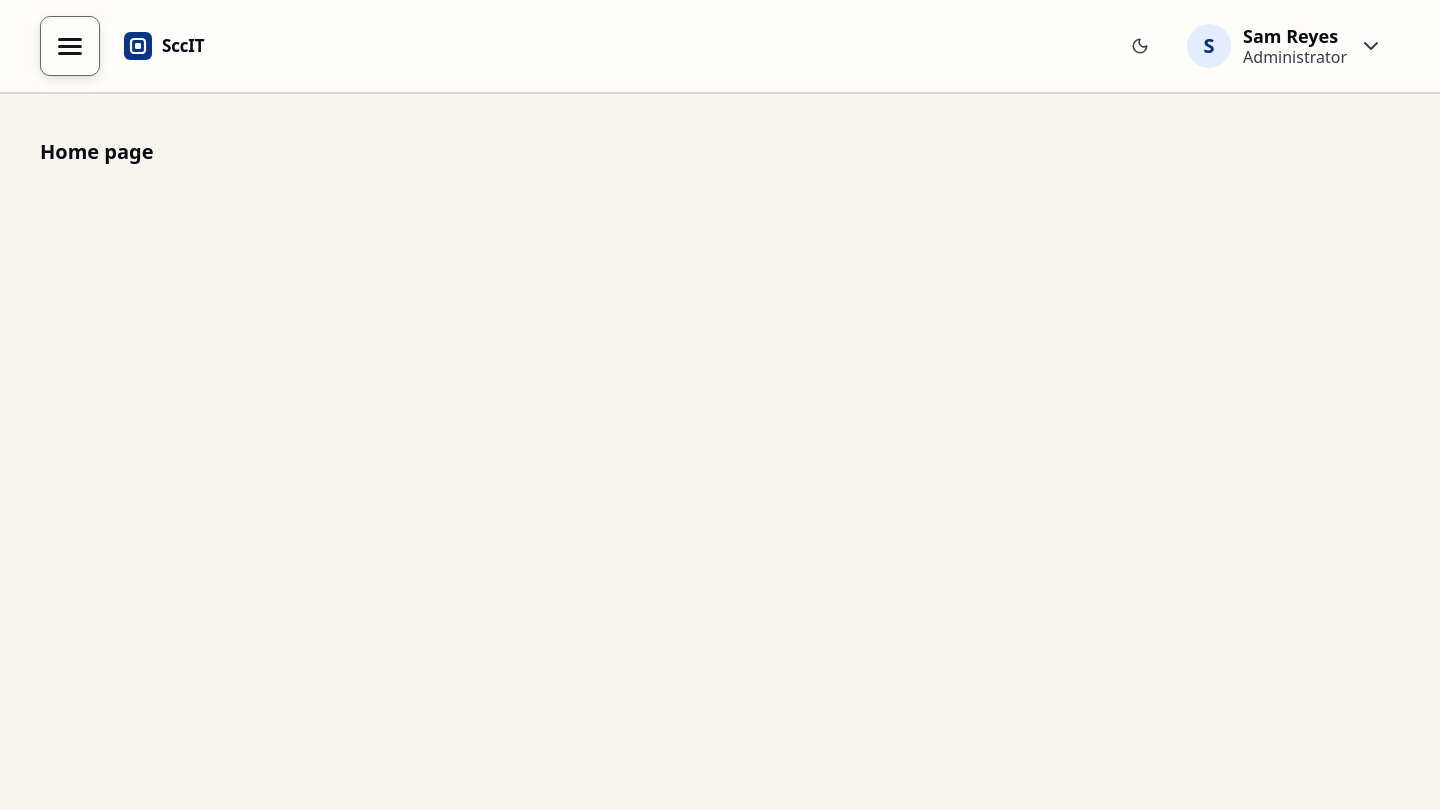
Test: the navigation inside it › groups an administrator’s links under headings, in order
Click the button named "open navigation menu" at (70, 46), box [40,16,100,76]
(page scrolled)
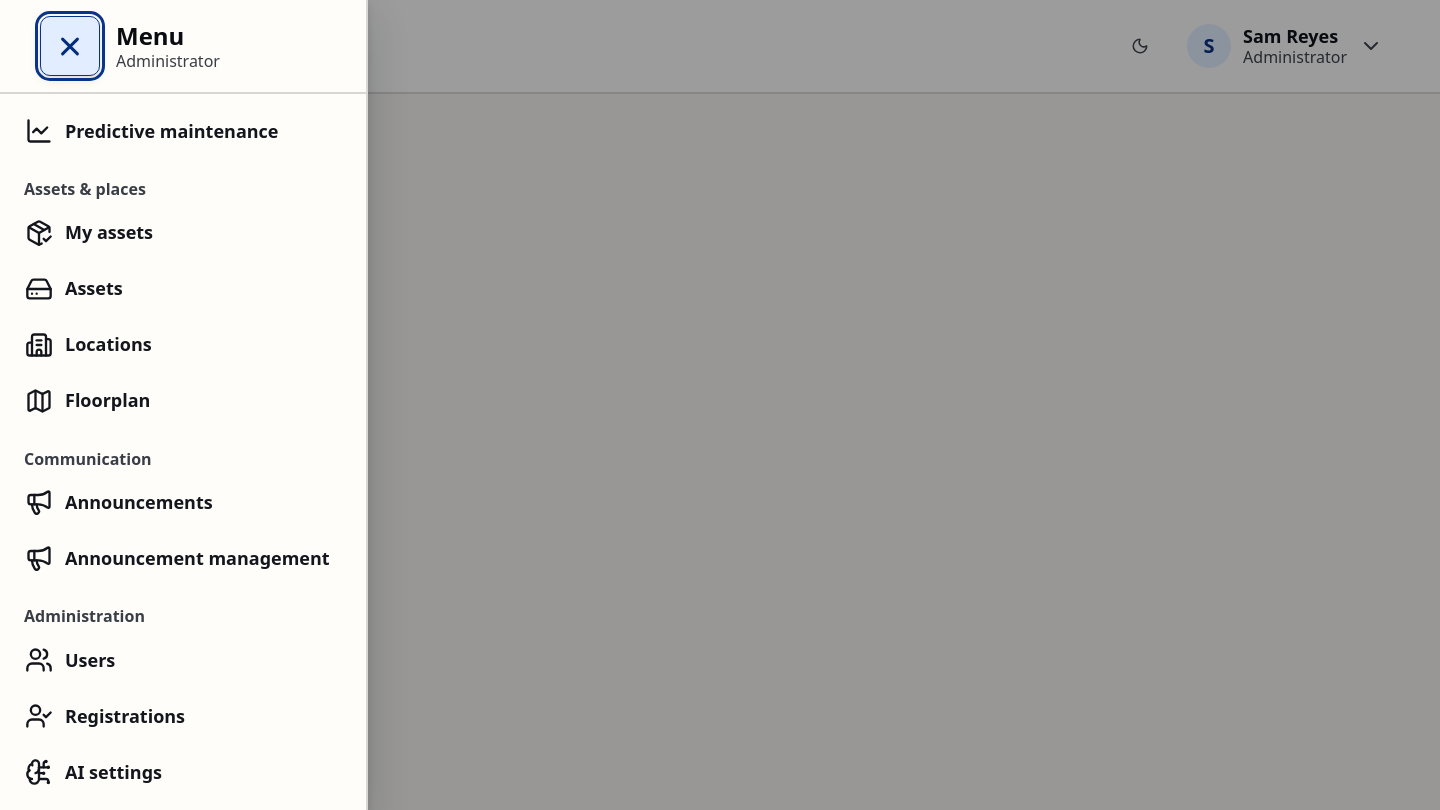
Expected: the text "Assets & places" is shown, [24,178,146,200]
Expected: the text "Communication" is shown, [24,448,152,470]
Expected: the text "Administration" is shown, [24,605,145,627]
